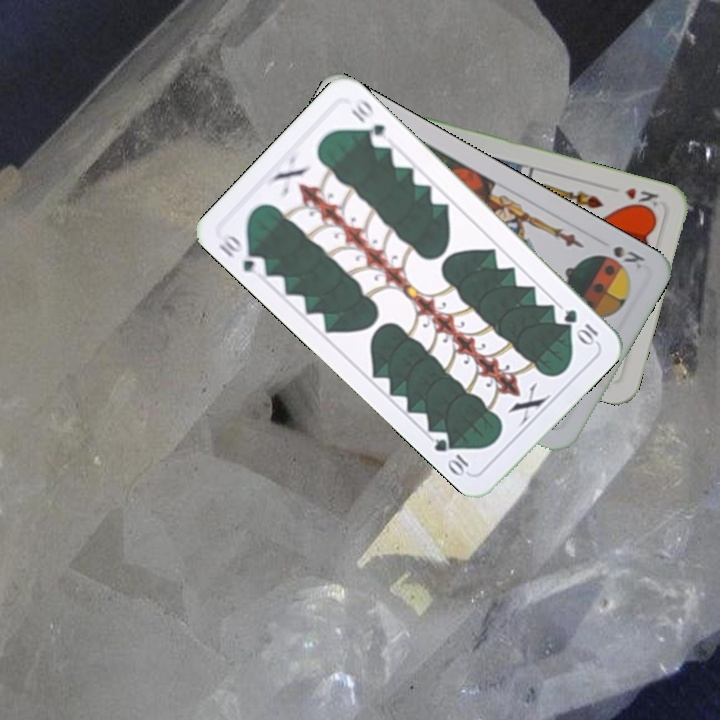G10: (214, 228, 269, 276), (559, 305, 601, 348)
HK: (621, 183, 661, 214)
SK: (592, 242, 648, 273)
